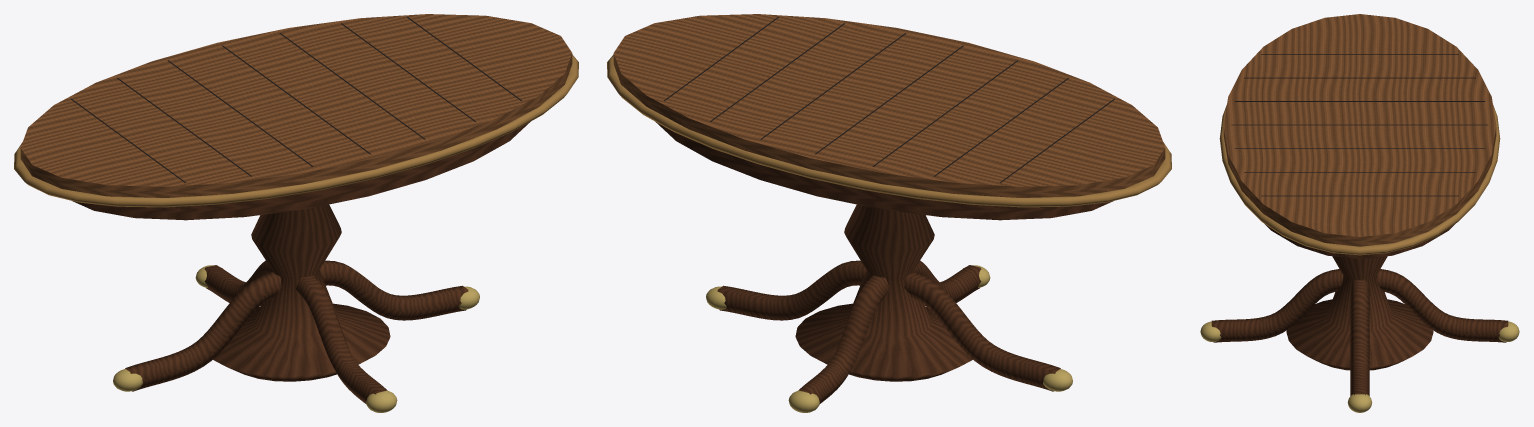
The model's file is dining-table.glb.
The picture shows the model from 3 angles, left to right: view 1: azimuth 30°, elevation 25°; view 2: azimuth 150°, elevation 25°; view 3: azimuth 270°, elevation 25°; orthographic projection. The views are drawn at different scales.
Parts seen in each view (by area): view 1: dining-table; view 2: dining-table; view 3: dining-table.
Part boxes in pixels (bbox=[...]): dining-table: bbox=[14, 14, 578, 412]; dining-table: bbox=[607, 14, 1171, 412]; dining-table: bbox=[1200, 14, 1519, 412].
Bounding box in the file's own units: 1.7 × 0.76 × 1.
Materials: 5 (2 with a texture image).
